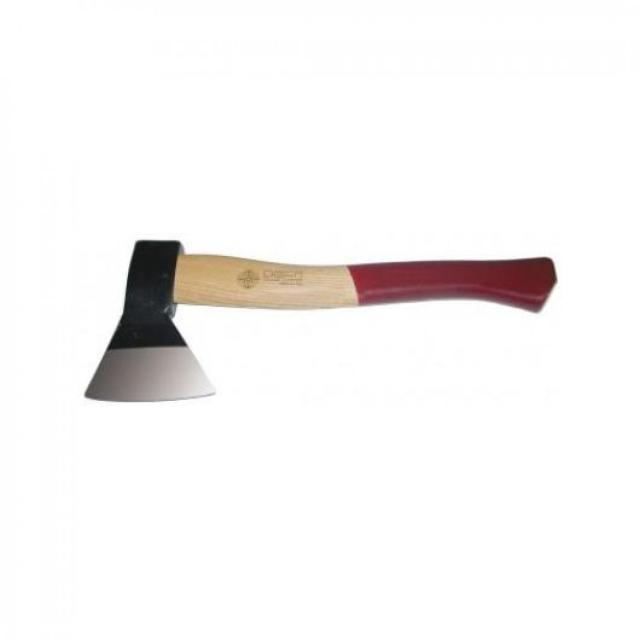Kapak: (108, 229, 550, 416)
